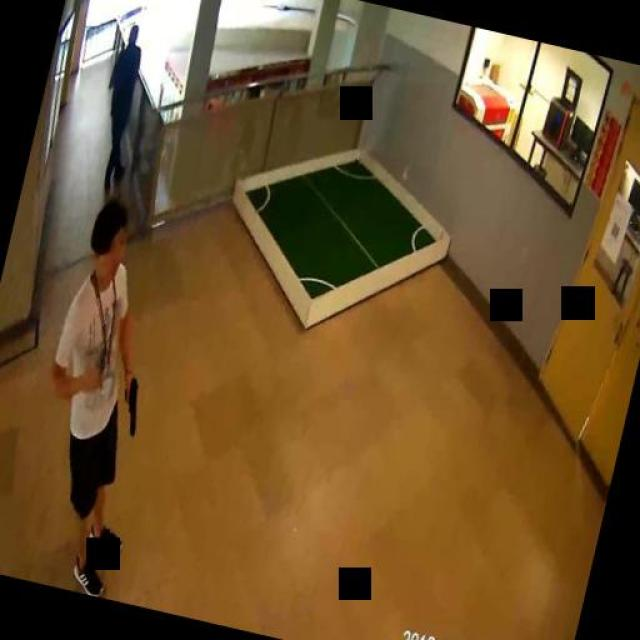gun: (114, 374, 145, 435)
